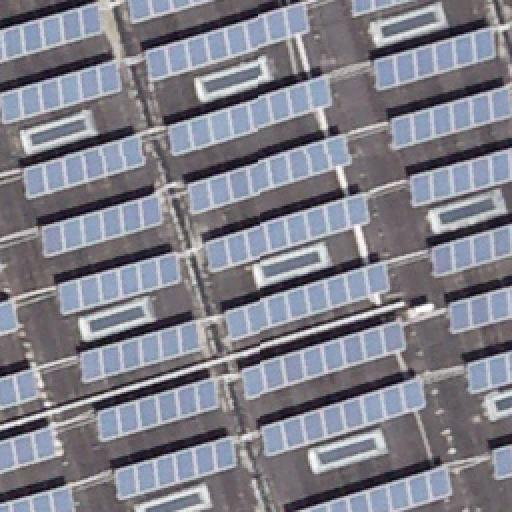solar-panel: (240, 317, 408, 403), (189, 133, 355, 219), (260, 374, 428, 458), (169, 74, 335, 158), (204, 191, 372, 273), (225, 259, 391, 341), (146, 3, 310, 85), (21, 133, 147, 203), (96, 373, 220, 443), (79, 319, 209, 385), (0, 60, 124, 128), (373, 27, 499, 93), (390, 86, 512, 154), (114, 435, 238, 501), (56, 253, 184, 315), (295, 464, 457, 512), (42, 193, 162, 255), (0, 1, 104, 63), (409, 149, 511, 211), (432, 224, 512, 280), (0, 422, 64, 474), (448, 283, 512, 333), (1, 481, 79, 511), (129, 0, 215, 26), (465, 349, 511, 395), (0, 366, 40, 410), (350, 0, 418, 20), (0, 296, 20, 336), (492, 441, 512, 479), (0, 256, 4, 272)
